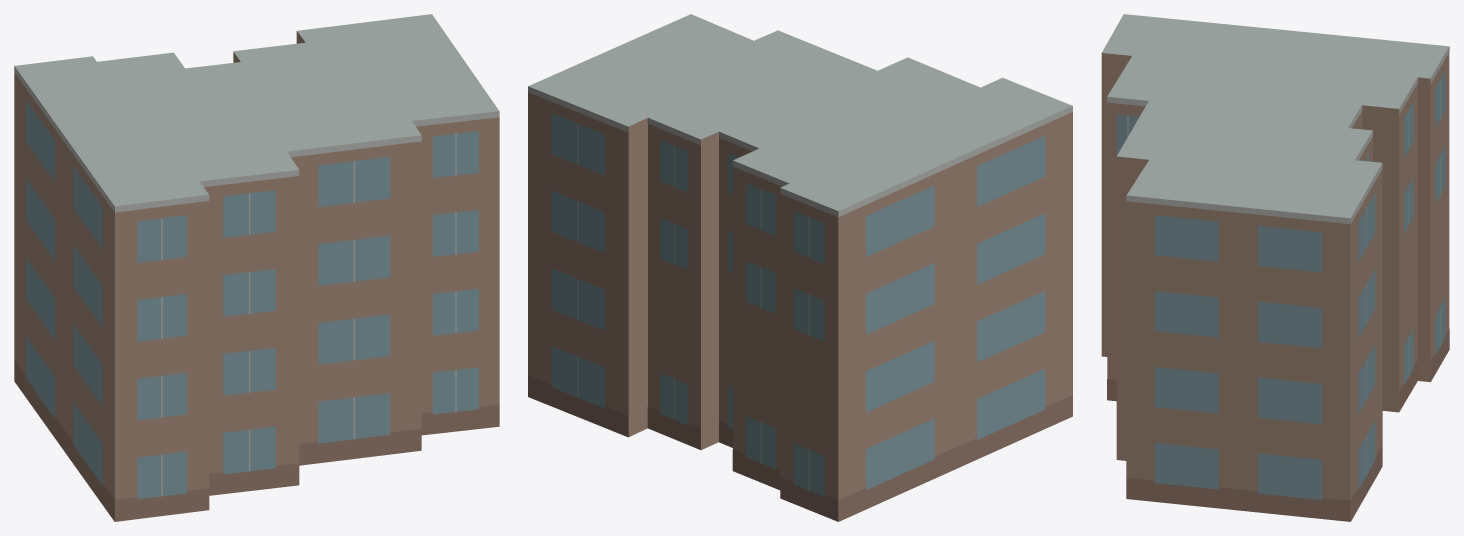
Rendered from survey-upis-32908532.glb.
The picture shows the model from 3 angles, left to right: view 1: azimuth 30°, elevation 25°; view 2: azimuth 150°, elevation 25°; view 3: azimuth 270°, elevation 25°; orthographic projection. The views are drawn at different scales.
Visible parts, largest first — view 1: survey-upis-32908532.tmp; view 2: survey-upis-32908532.tmp; view 3: survey-upis-32908532.tmp.
Part boxes in pixels (x1=…): survey-upis-32908532.tmp: x1=14, y1=14, x2=499, y2=521; survey-upis-32908532.tmp: x1=528, y1=14, x2=1072, y2=521; survey-upis-32908532.tmp: x1=1101, y1=14, x2=1449, y2=521.
Size of the model in its own units: 18.2 by 12.6 by 13.09.
